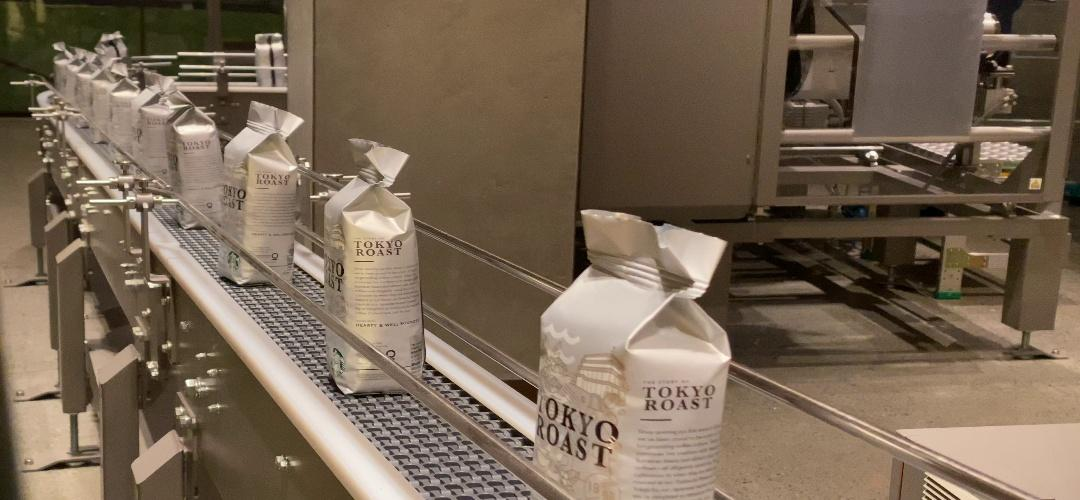conveyor: (538, 314, 726, 456), (323, 200, 421, 312), (222, 147, 300, 233), (163, 124, 219, 190)
